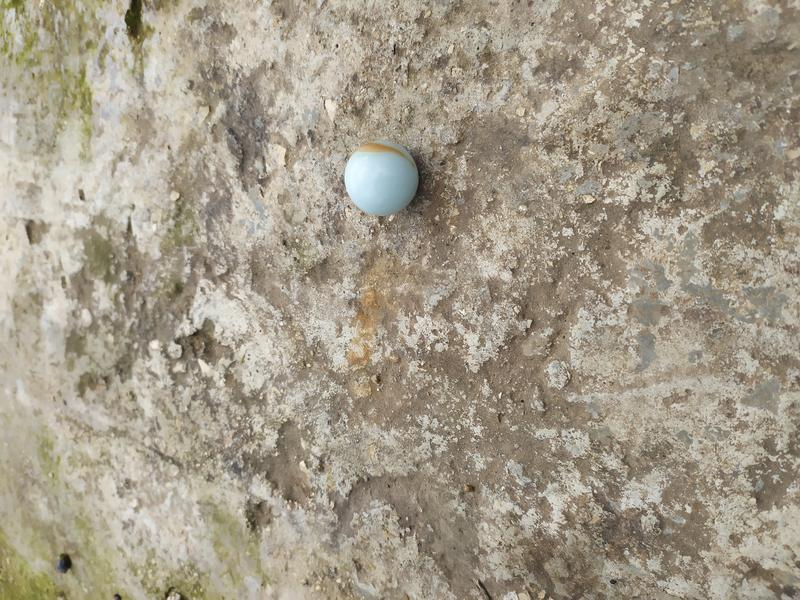Warning: (342, 138, 421, 219)
